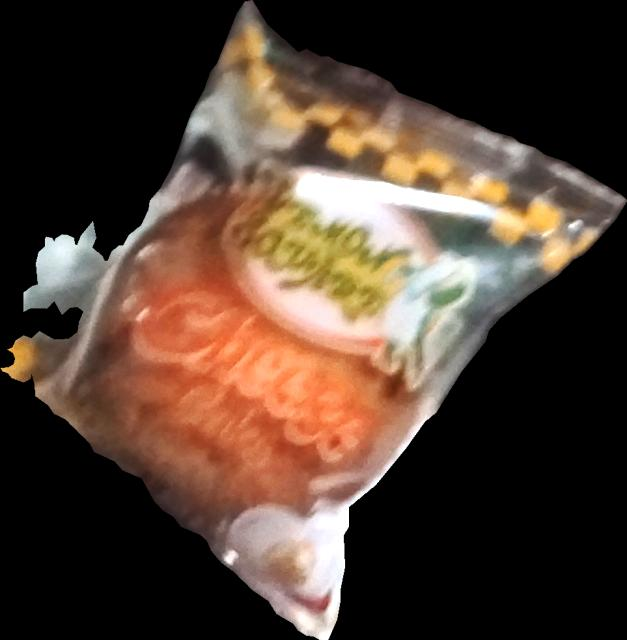lemon square: (1, 0, 627, 640)
